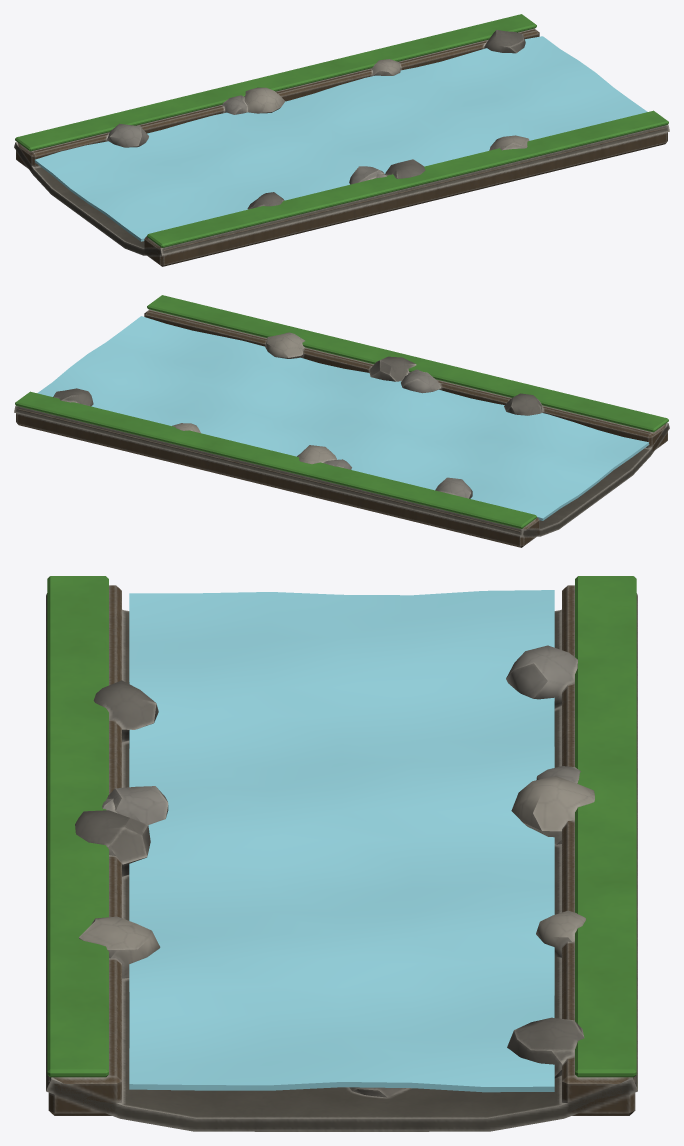
File: rio_segmento.fbx
3 views of the same model, one above another, from view 1: azimuth 30°, elevation 25°; view 2: azimuth 150°, elevation 25°; view 3: azimuth 270°, elevation 25° (orthographic). The views are drawn at different scales.
Parts seen in each view (by area): view 1: rio_segmento_agua_cristal, rio_segmento; view 2: rio_segmento_agua_cristal, rio_segmento; view 3: rio_segmento_agua_cristal, rio_segmento.
Boxes of the visible parts, left/top/right/bottom form: rio_segmento_agua_cristal: left=34, top=36, right=647, bottom=241; rio_segmento: left=14, top=14, right=669, bottom=266; rio_segmento_agua_cristal: left=37, top=316, right=649, bottom=520; rio_segmento: left=14, top=295, right=669, bottom=547; rio_segmento_agua_cristal: left=129, top=590, right=554, bottom=1092; rio_segmento: left=46, top=576, right=637, bottom=1131.
Size of the model in its own units: 8 by 0.6331 by 4.04.
Materials: 2 (1 with a texture image).
